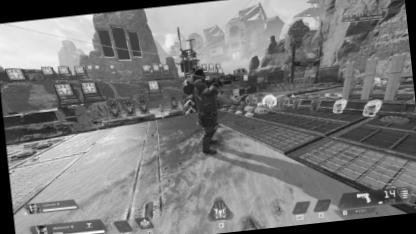Target: (182, 68, 224, 155)
